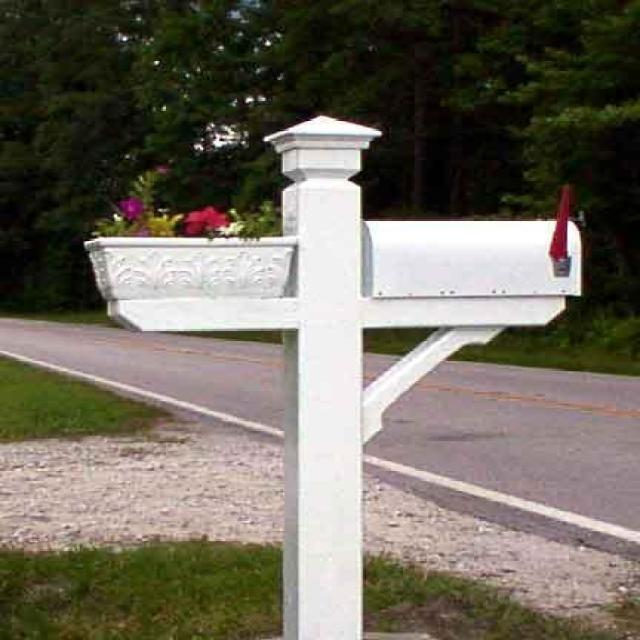Post Box: (365, 182, 586, 298)
